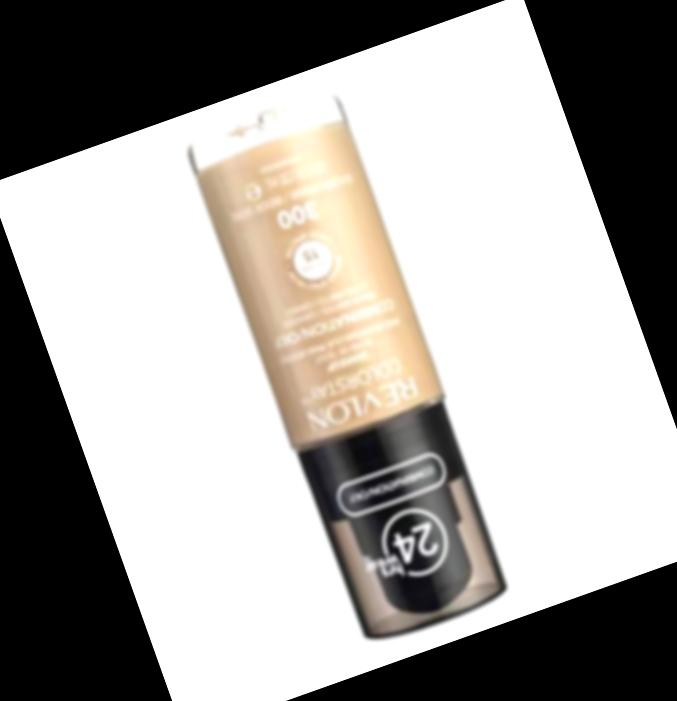cosmetic: (181, 92, 517, 650)
